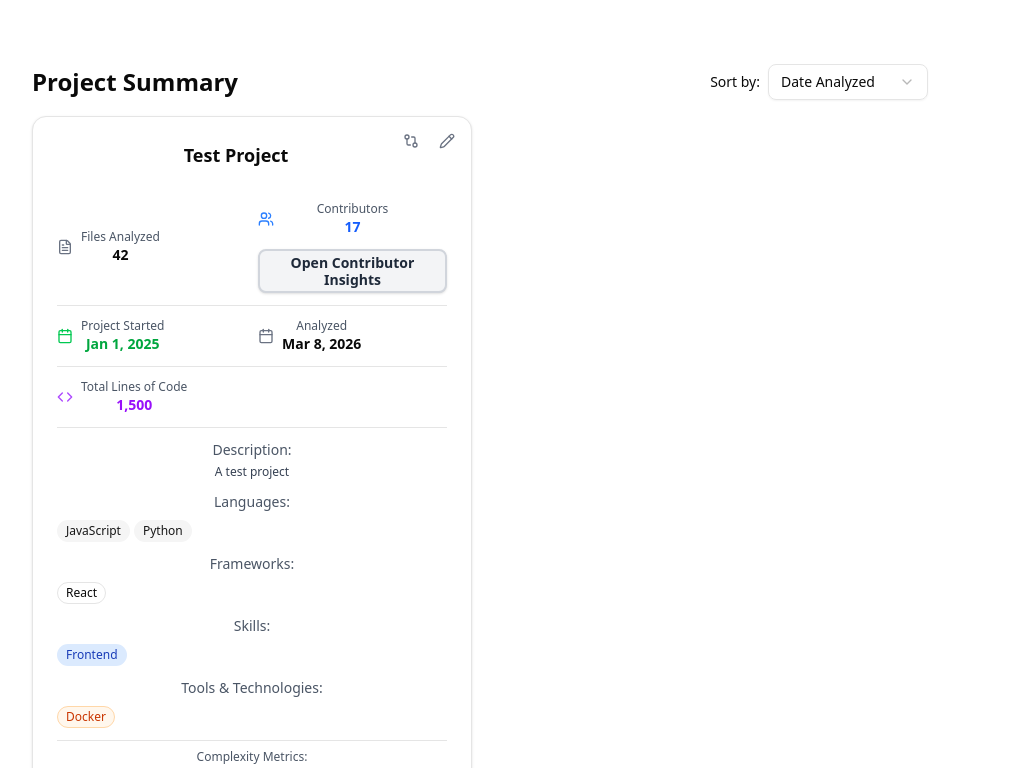
ProjectSummary › does not crash when top contributor has zero total_lines_changed
The width and height of the screenshot is (1024, 768).
Step 1. Click the text "17" → (352, 226), box [344,217,360,236]
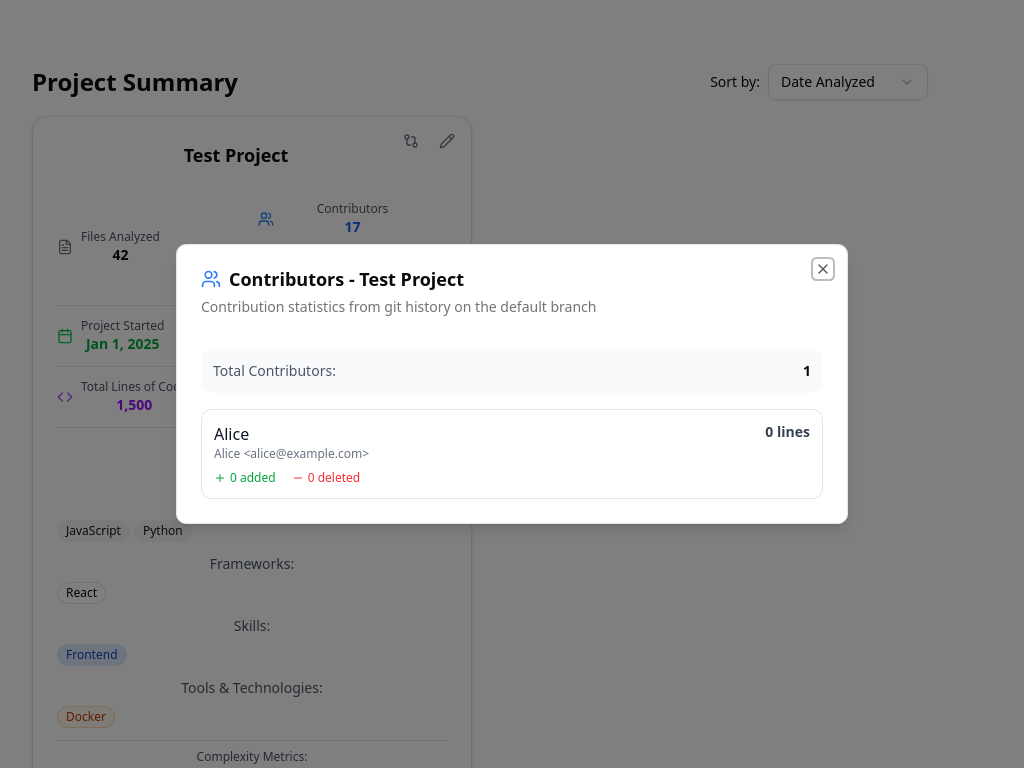
Check: the text "Total Contributors:" is shown, box [213,361,336,381]
